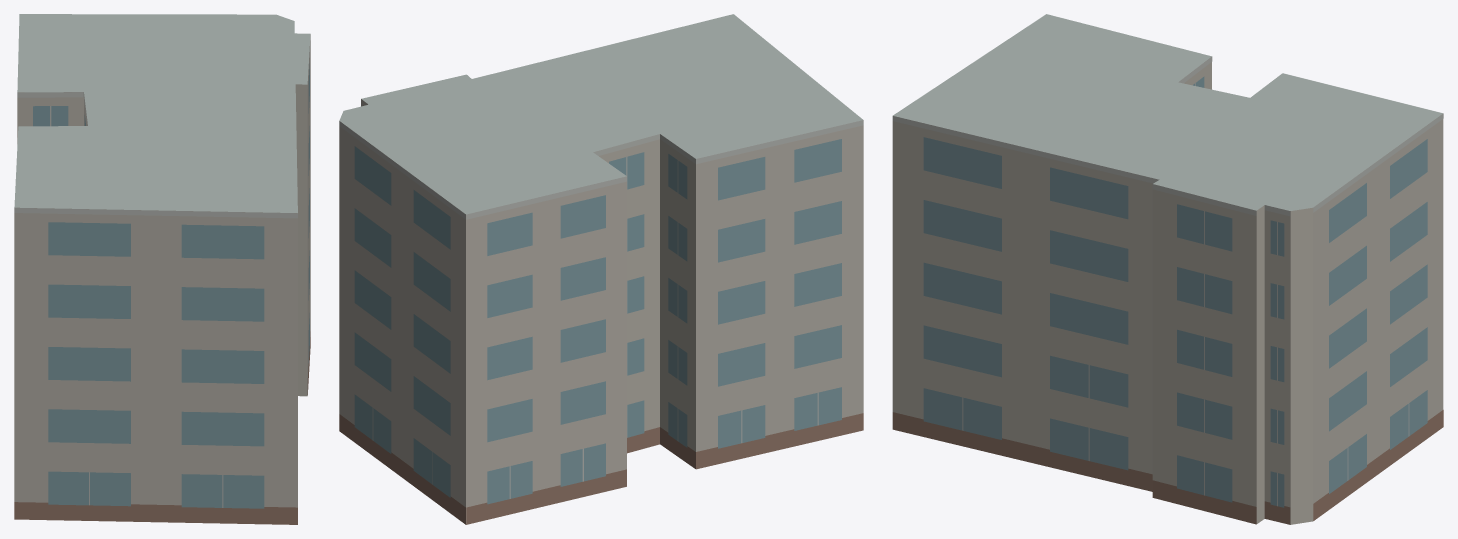
File: survey-upis-33024424.glb
3 renders of one model, left to right at view 1: azimuth 30°, elevation 25°; view 2: azimuth 150°, elevation 25°; view 3: azimuth 270°, elevation 25°, orthographic.
Visible parts, largest first — view 1: survey-upis-33024424.tmp; view 2: survey-upis-33024424.tmp; view 3: survey-upis-33024424.tmp.
Boxes of the visible parts, left/top/right/bottom form: survey-upis-33024424.tmp: left=14, top=14, right=310, bottom=524; survey-upis-33024424.tmp: left=339, top=14, right=863, bottom=524; survey-upis-33024424.tmp: left=892, top=14, right=1443, bottom=524.
Bounding box in the file's own units: 19.34 × 14.35 × 22.84.
